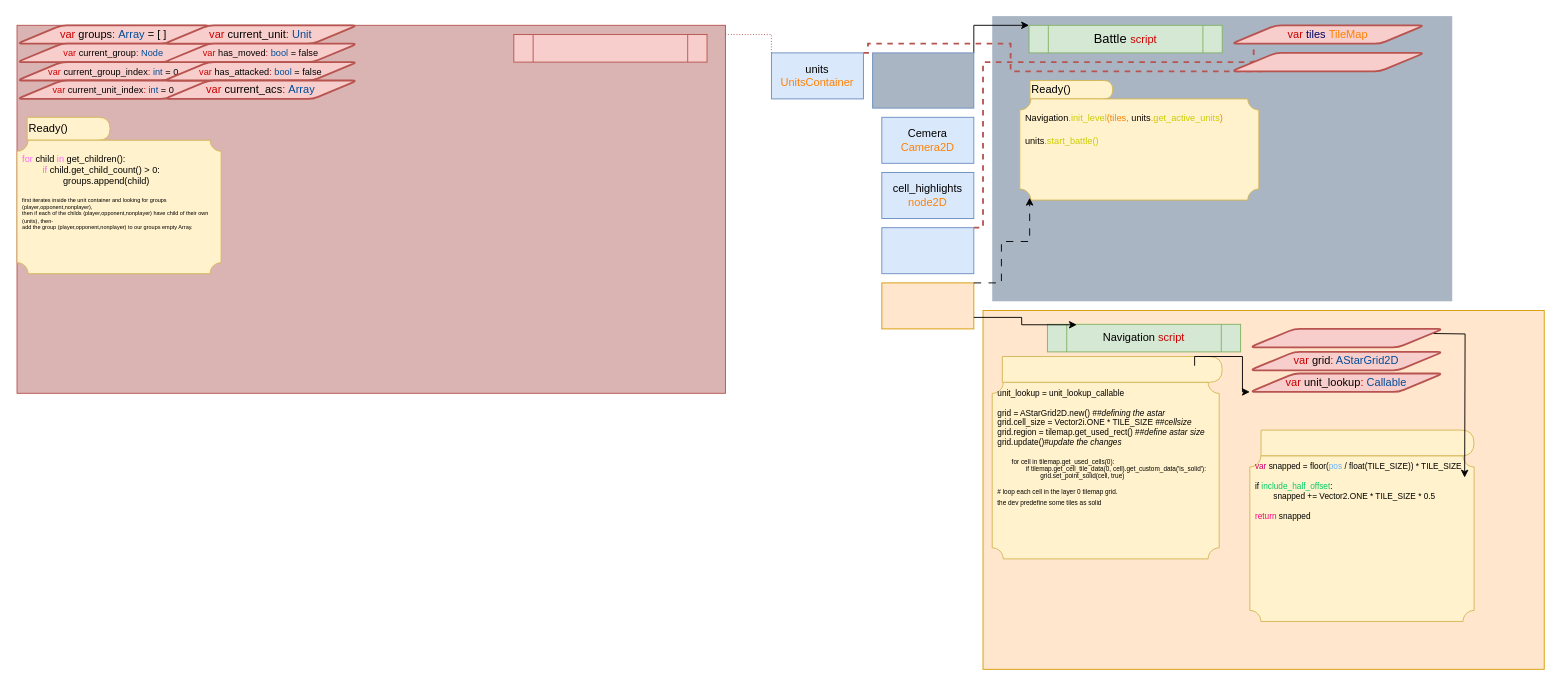
The diagram is 1560 pixels wide and 685 high, and some of its shapes have lost their labels. The shapes that lost their labels are listed below. From the top down, each one's centre as x and y in pixels, then its label:
At point 610,48: "UnitsContainer Class".
At point 1327,62: "var units UnitsContainer".
At point 923,80: "Battle node2D".
At point 927,250: "tiles TileMap".
At point 927,305: "Navigation node singelton".
At point 1345,338: "const TILE_SIZE : int = 16".
At point 1111,369: "init_level(tilemap: TileMap , unit_lookup_callable: Callable )".
At point 1367,442: "snap_to_tile ( pos : Vector2, include_half_offset : bool = false) -> Vector2:".
